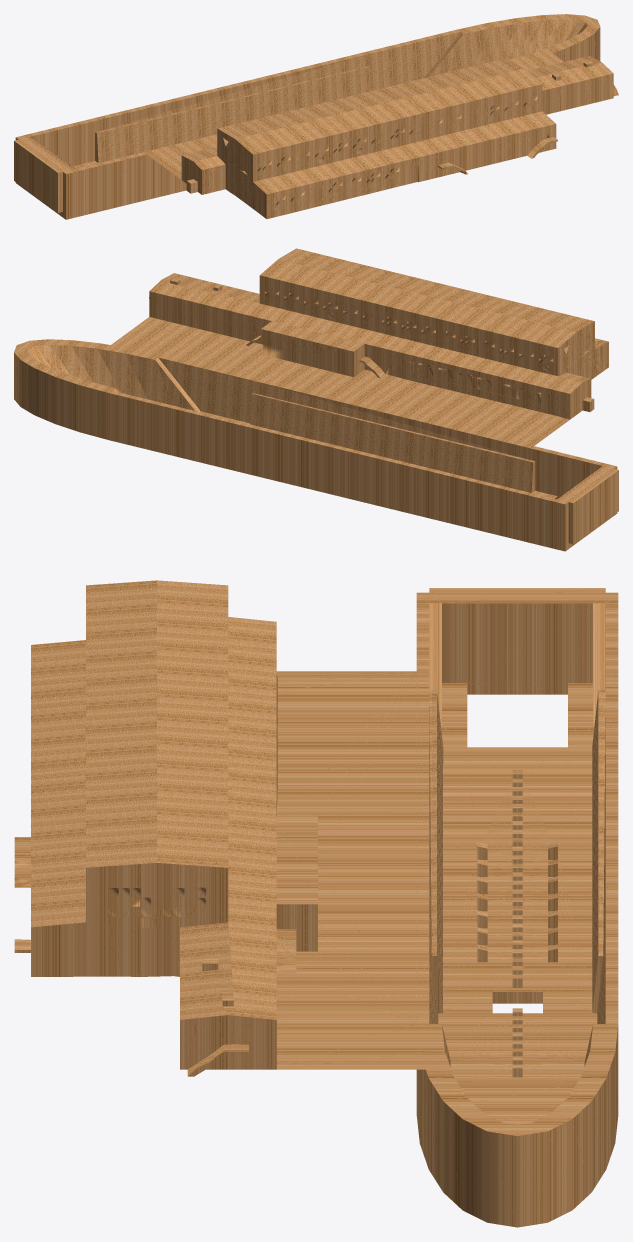
File: Dock.FBX
3 views of the same model, one above another, from view 1: azimuth 30°, elevation 25°; view 2: azimuth 150°, elevation 25°; view 3: azimuth 270°, elevation 25° (orthographic). The views are drawn at different scales.
Visible parts, largest first — view 1: Group1; view 2: Group1; view 3: Group1.
Boxes of the visible parts, x1,y1,x2,y2 form: Group1: (14, 14, 618, 219); Group1: (14, 248, 618, 551); Group1: (14, 580, 618, 1227).
Bounding box in the file's own units: 11.53 × 2.02 × 5.37.
Materials: 1 (1 with a texture image).
